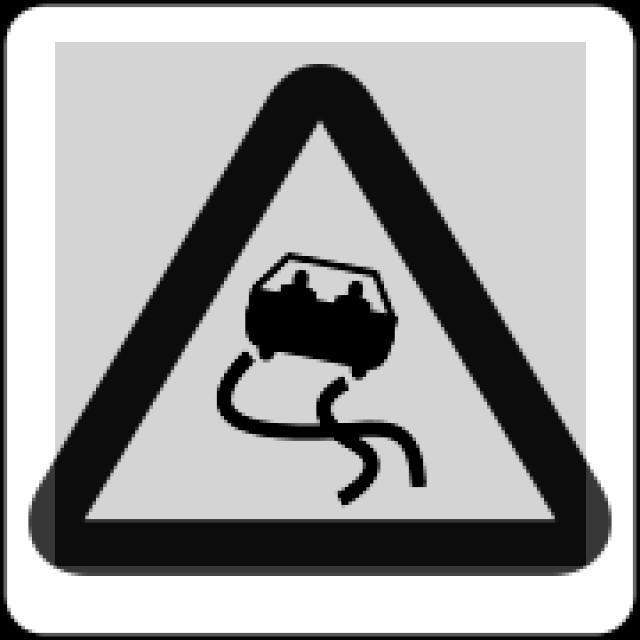slippery road: (30, 59, 611, 573)
